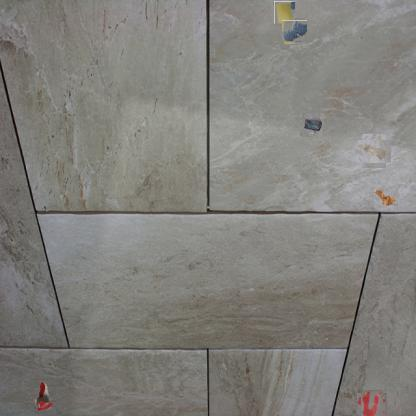dirty: (360, 136, 388, 166), (34, 382, 56, 416), (300, 113, 324, 136), (274, 1, 296, 24), (374, 188, 398, 208)
liquid: (358, 391, 385, 416), (283, 19, 306, 43)
